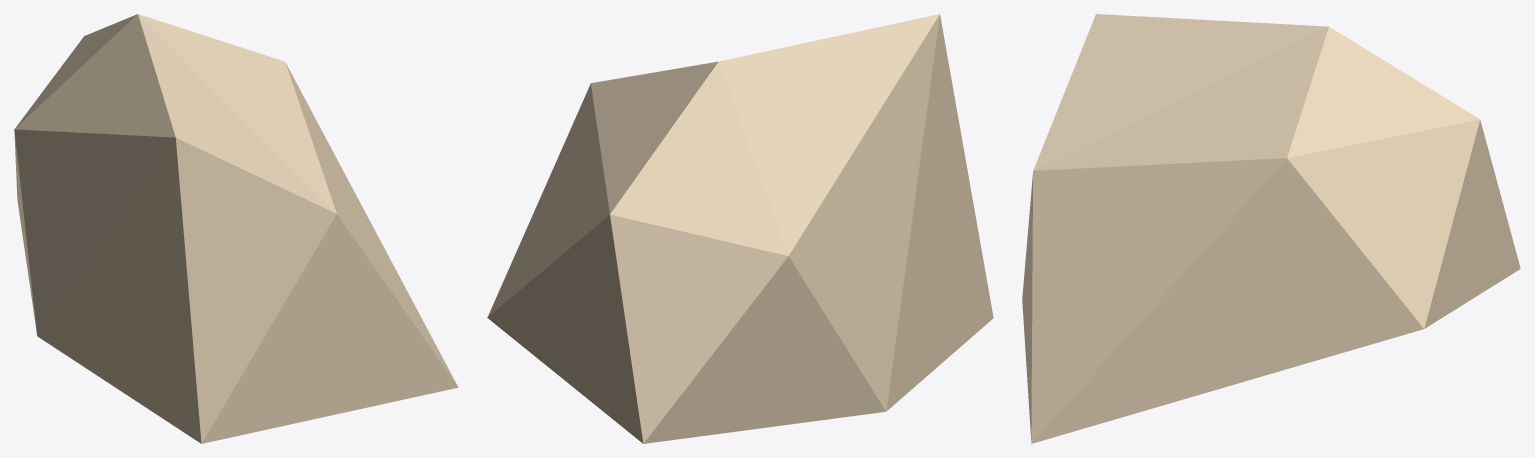
The model's file is rock2.fbx.
The picture shows the model from 3 angles, left to right: view 1: azimuth 30°, elevation 25°; view 2: azimuth 150°, elevation 25°; view 3: azimuth 270°, elevation 25°; orthographic projection. The views are drawn at different scales.
Visible parts, largest first — view 1: Icosphere.004; view 2: Icosphere.004; view 3: Icosphere.004.
Part boxes in pixels (<box>): Icosphere.004: <box>14,14,458,443</box>; Icosphere.004: <box>487,14,993,443</box>; Icosphere.004: <box>1022,14,1520,443</box>.
Bounding box in the file's own units: 173 × 173 × 240.
